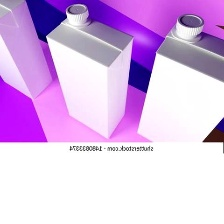carton: (43, 1, 136, 140), (135, 11, 223, 142), (0, 0, 56, 100)
